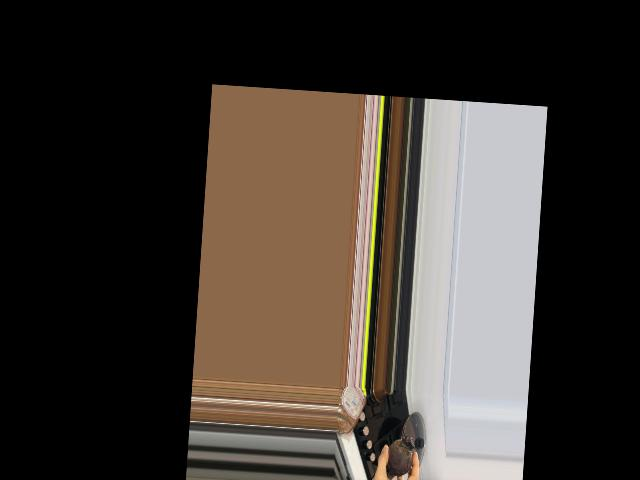beet: (386, 435, 414, 479)
